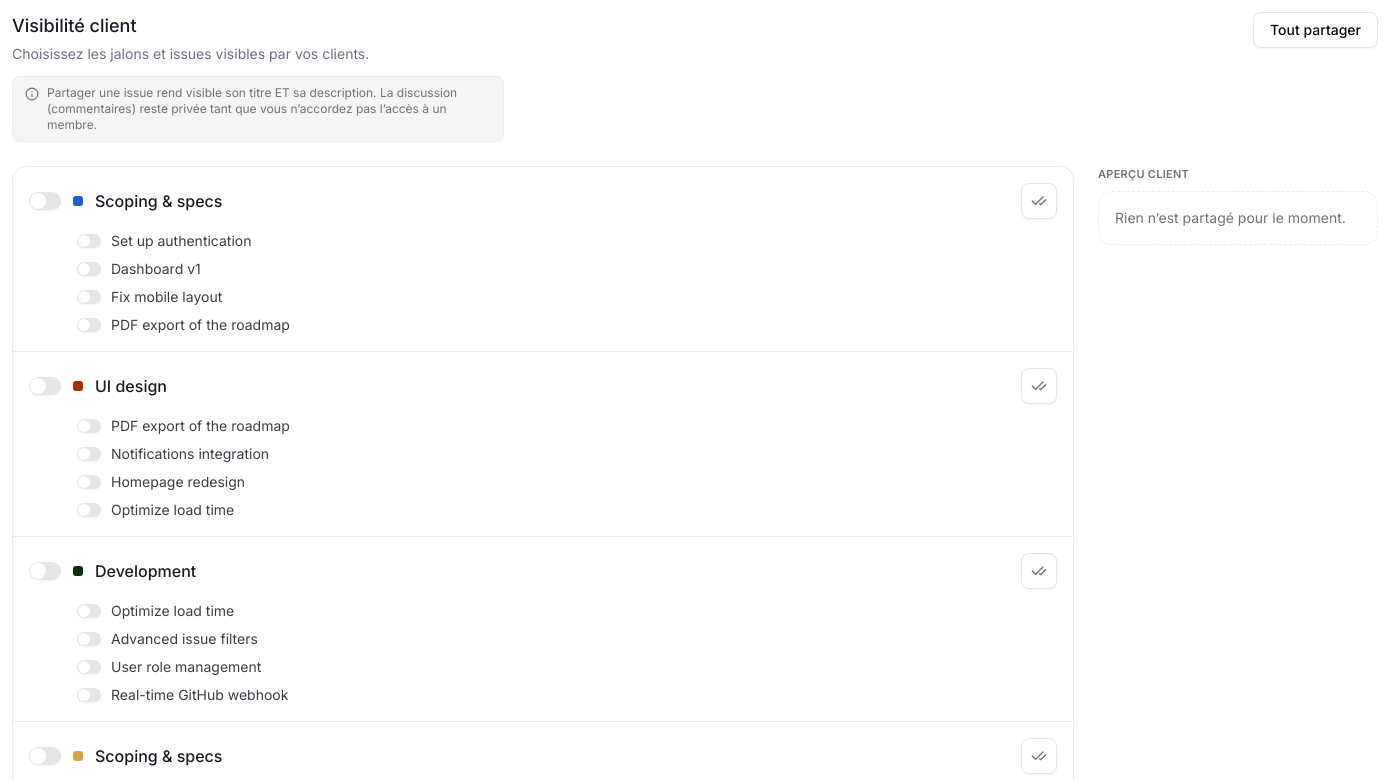
it: share-picker (#4) › "Share all" flips to "Unshare all" once the whole milestone is shared
The image size is (1390, 780).
Click the button "Tout partager". click: (1316, 30)
box: [1253,12,1378,48]
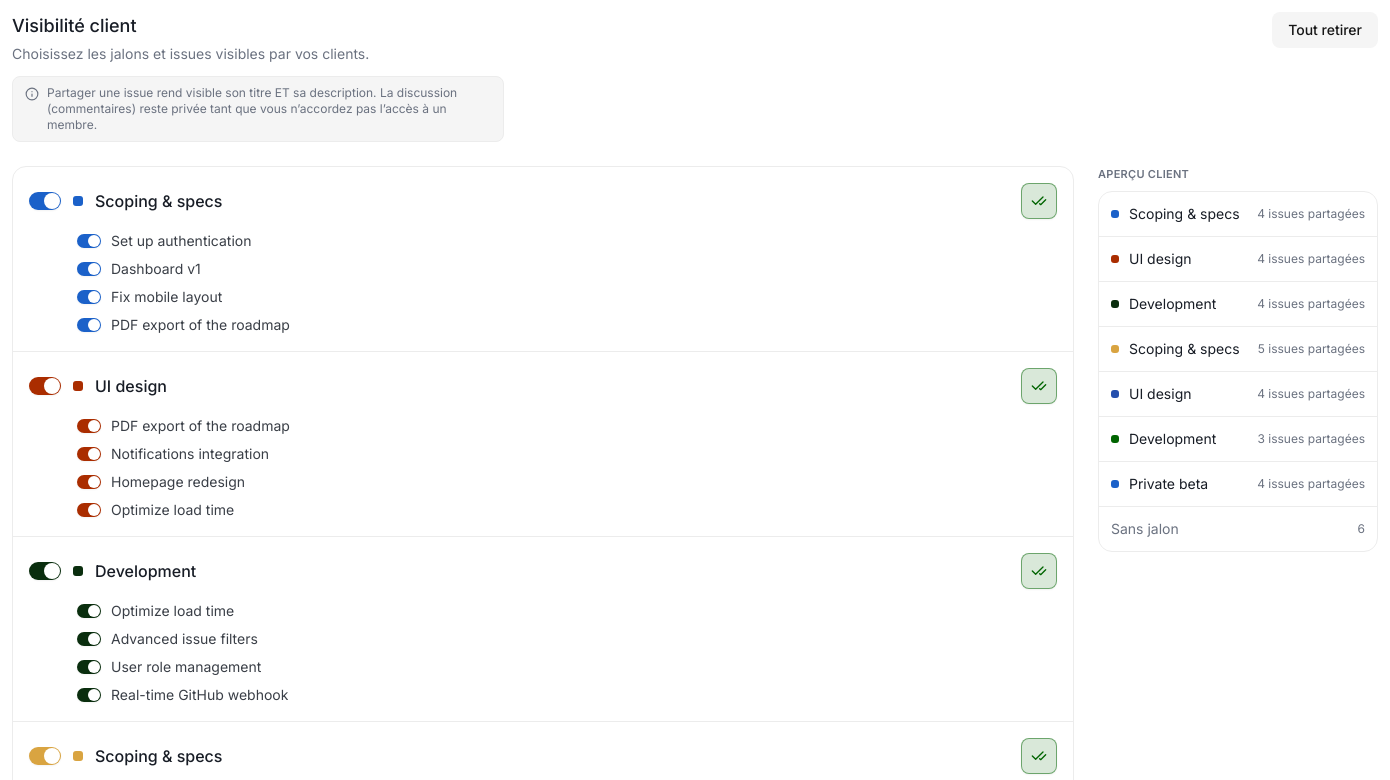
Check: the button "Tout retirer" is shown, box [1272,12,1378,48]
